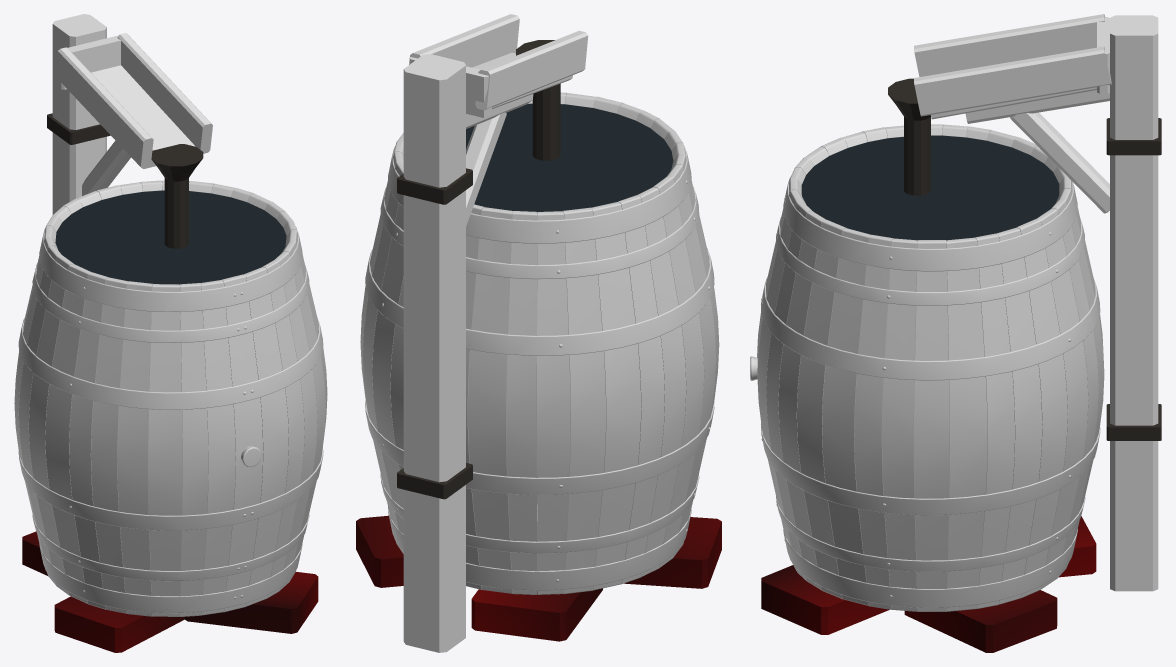
Rendered from SilverbrookPropRainBarrel.fbx.
The picture shows the model from 3 angles, left to right: view 1: azimuth 30°, elevation 25°; view 2: azimuth 150°, elevation 25°; view 3: azimuth 270°, elevation 25°; orthographic projection. The views are drawn at different scales.
Parts seen in each view (by area): view 1: SM_SBRainBarrel_PH_Barrel_0, SM_SBRainBarrel_Timber, SM_SBRainBarrel_Water, SM_SBRainBarrel_Stones, SM_SBRainBarrel_Iron; view 2: SM_SBRainBarrel_PH_Barrel_0, SM_SBRainBarrel_Timber, SM_SBRainBarrel_Water, SM_SBRainBarrel_Stones, SM_SBRainBarrel_Iron; view 3: SM_SBRainBarrel_PH_Barrel_0, SM_SBRainBarrel_Timber, SM_SBRainBarrel_Water, SM_SBRainBarrel_Stones, SM_SBRainBarrel_Iron.
Part boxes in pixels (x1,y1,x2,y2): SM_SBRainBarrel_PH_Barrel_0: (14, 180, 327, 616); SM_SBRainBarrel_Timber: (52, 14, 212, 214); SM_SBRainBarrel_Water: (55, 190, 286, 284); SM_SBRainBarrel_Stones: (22, 531, 318, 652); SM_SBRainBarrel_Iron: (47, 113, 203, 248); SM_SBRainBarrel_PH_Barrel_0: (360, 92, 719, 594); SM_SBRainBarrel_Timber: (403, 14, 588, 652); SM_SBRainBarrel_Water: (466, 103, 673, 212); SM_SBRainBarrel_Stones: (356, 515, 721, 641); SM_SBRainBarrel_Iron: (397, 40, 560, 499); SM_SBRainBarrel_PH_Barrel_0: (757, 124, 1104, 611); SM_SBRainBarrel_Timber: (914, 14, 1158, 591); SM_SBRainBarrel_Water: (801, 135, 1059, 240); SM_SBRainBarrel_Stones: (761, 516, 1096, 652); SM_SBRainBarrel_Iron: (888, 78, 1161, 440).
Bounding box in the file's own units: 79.38 × 140 × 94.
